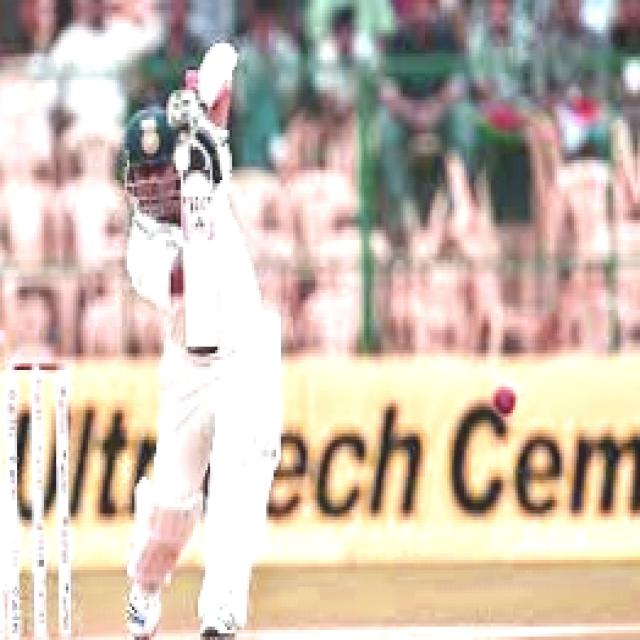bat: (176, 175, 234, 358)
